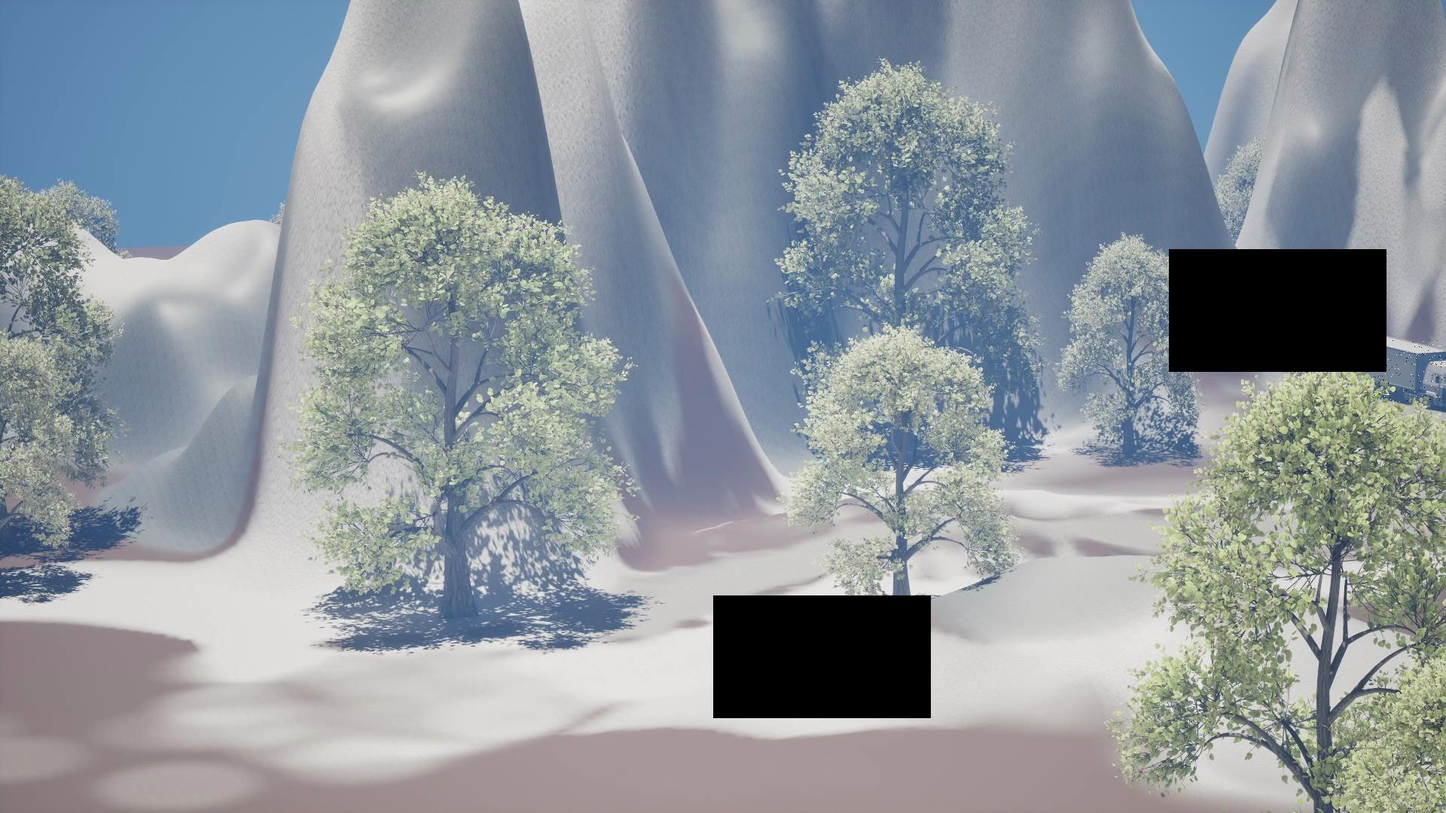truck: (1374, 340, 1446, 403)
